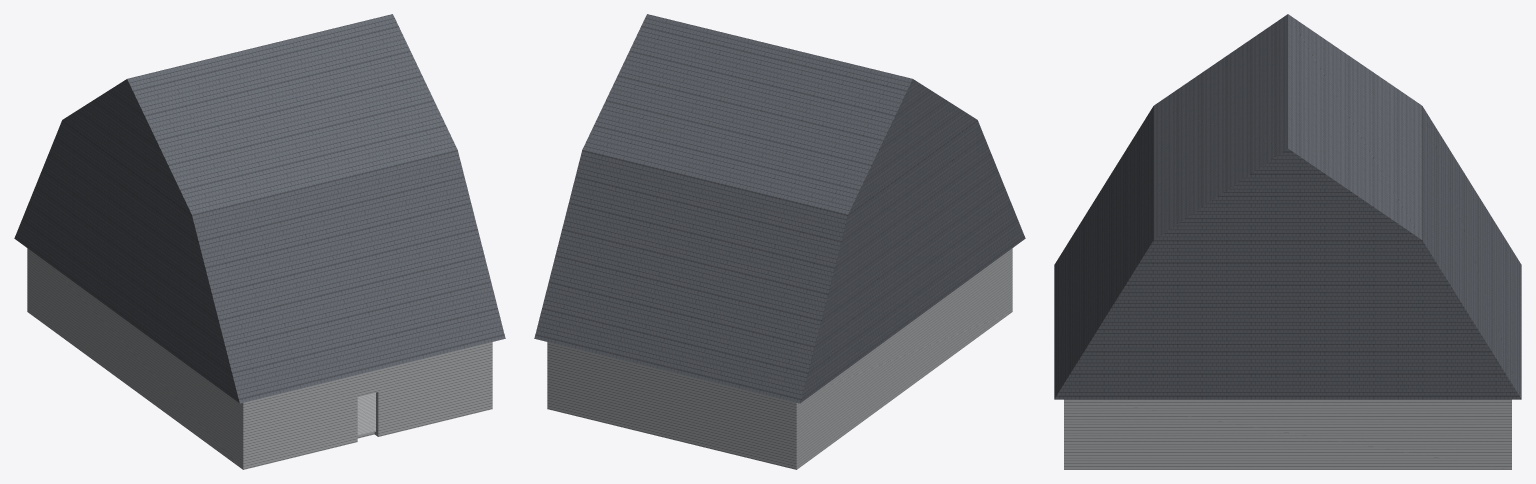
The model's file is barn.glb.
3 renders of one model, left to right at view 1: azimuth 30°, elevation 25°; view 2: azimuth 150°, elevation 25°; view 3: azimuth 270°, elevation 25°, orthographic. The views are drawn at different scales.
Visible parts, largest first — view 1: barn-col; view 2: barn-col; view 3: barn-col.
Part boxes in pixels (bbox=[...]): barn-col: bbox=[14, 14, 505, 469]; barn-col: bbox=[534, 14, 1025, 469]; barn-col: bbox=[1054, 14, 1521, 469].
Size of the model in its own units: 12.99 by 14.67 by 19.09.
Materials: 2 (2 with a texture image).
